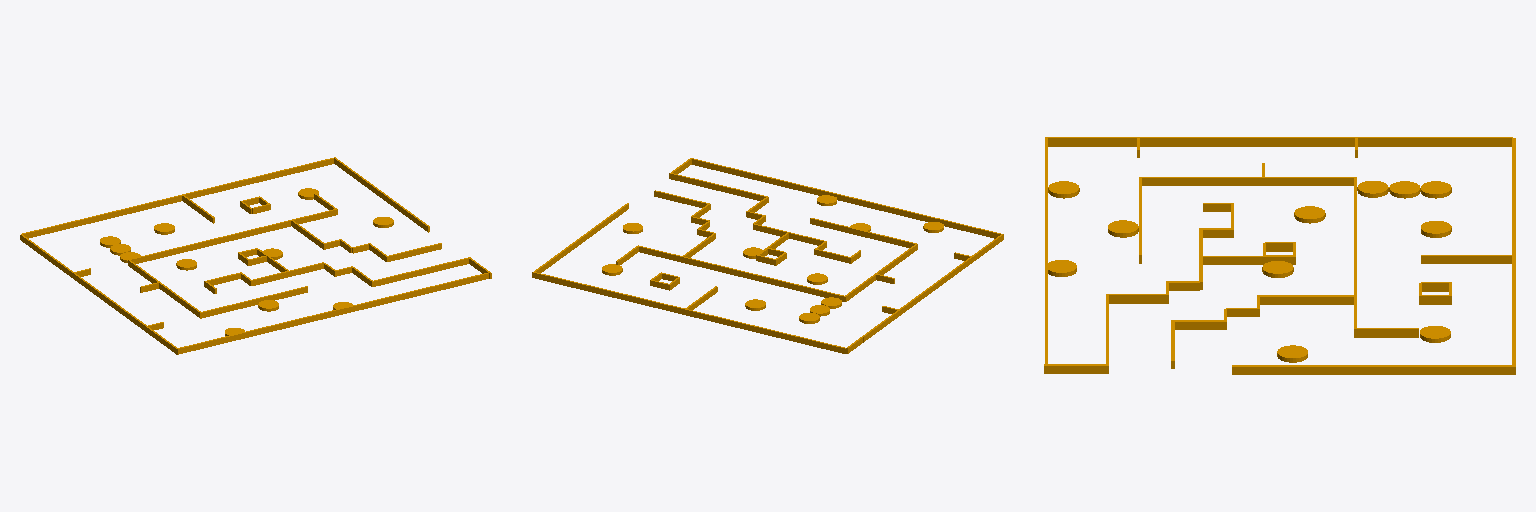
URDF robot description (maze_big):
<?xml version="1.0"?>


<robot name="maze_big" static="true">

	<link name="maze_big">
		<inertial>
			<origin xyz="0 0 1"/>
			<mass value="100.0"/>
			<inertia ixx="100.0" ixy="0.0" ixz="0.0" iyy="100.0" iyz="0.0" izz="100.0"/>
		</inertial>
		<collision name="room_collision">
            		<geometry>

                		<mesh filename="package://edufill_gazebo_world/common/worlds/edufill_maze_big.dae" scale="1 1 1"/>
            		</geometry>
        	</collision>
		<visual>
			<geometry>
				<mesh filename= "package://edufill_gazebo_world/common/worlds/edufill_maze_big.dae" scale="1 1 1"/>
			</geometry>
		</visual>
	</link>
  <gazebo reference="maze_big">
	<material>Gazebo/White</material>
	<selfCollide>true</selfCollide>
    <turnGravityOff>false</turnGravityOff>
  </gazebo>
</robot>

--- What the picture shows (computed from the rendered views, not written in the file) ---
Views: 3 orthographic renders of the robot side by side, from view 1: azimuth 30°, elevation 25°; view 2: azimuth 150°, elevation 25°; view 3: azimuth 270°, elevation 25°.
Model maze_big with 1 links and 0 joints (none), rooted at maze_big, posed all joints at 0.
Visible links, largest first — view 1: maze_big; view 2: maze_big; view 3: maze_big.
Boxes of the visible links, box(x1,y1,x2,y2) form: maze_big: box(20, 157, 491, 354); maze_big: box(532, 158, 1003, 353); maze_big: box(1044, 137, 1515, 374).
Bounding box of the posed robot: 17.48 × 15.12 × 0.3 m (x, y, z).
1 mesh visuals loaded from 1 distinct referenced files (1 Collada DAE).